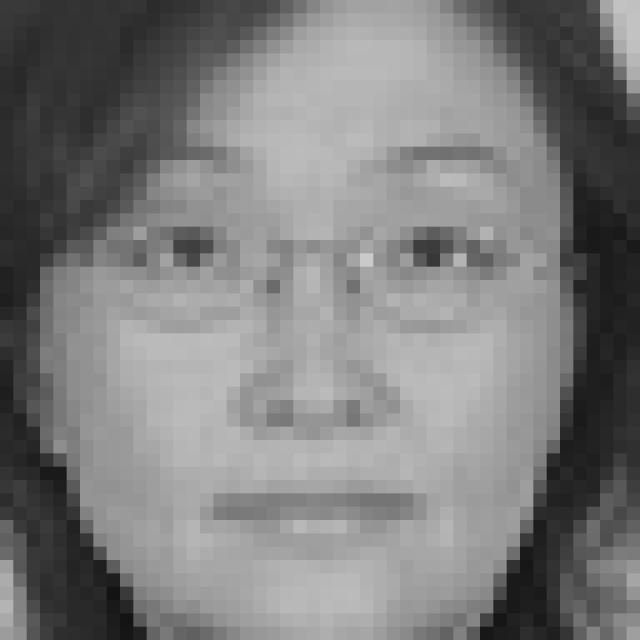neutral: (98, 128, 531, 562)
